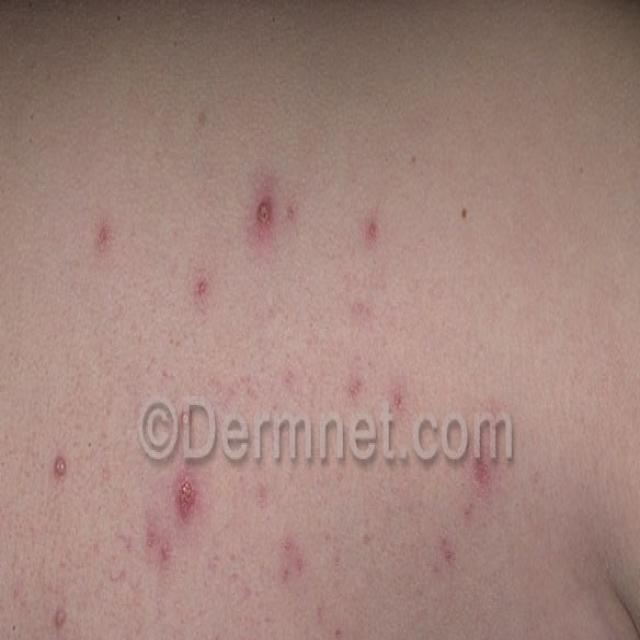Viral Infections: (138, 452, 218, 589), (456, 419, 515, 501), (336, 367, 423, 419), (239, 170, 293, 252), (271, 523, 321, 594), (75, 211, 136, 266), (423, 528, 477, 588), (185, 264, 232, 328), (353, 199, 386, 258), (44, 442, 80, 484), (322, 620, 390, 640), (44, 598, 71, 640)
